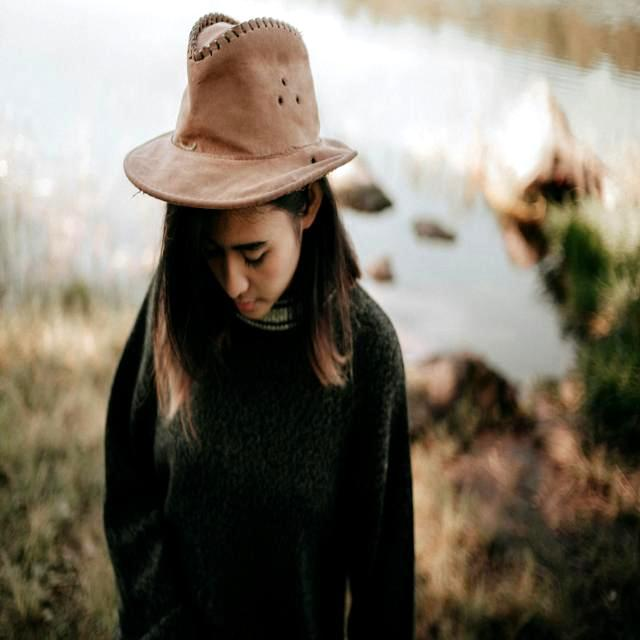no_hard_hat: (124, 13, 357, 209)
person: (104, 13, 414, 640)
